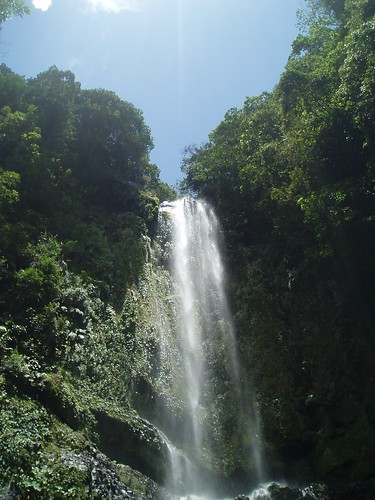wufengciWaterfall: (122, 185, 287, 493)
